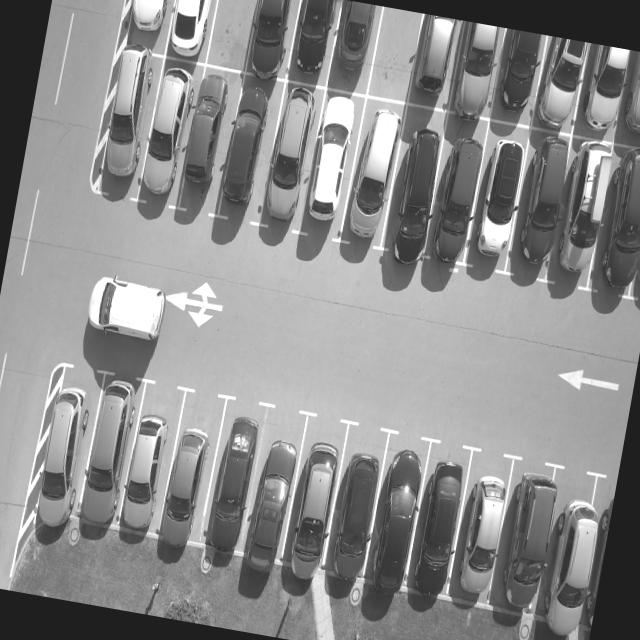car: (530, 466, 617, 640), (23, 360, 103, 540), (484, 458, 566, 632), (196, 392, 274, 564), (150, 385, 228, 554), (278, 412, 354, 584), (70, 370, 146, 542), (316, 418, 390, 590), (360, 429, 434, 601), (334, 92, 410, 258), (237, 403, 310, 574), (113, 378, 187, 546), (442, 446, 516, 614), (210, 69, 286, 232), (254, 77, 329, 241), (84, 43, 162, 198), (404, 438, 476, 604), (292, 88, 366, 248), (380, 104, 454, 262), (174, 61, 246, 221), (134, 54, 204, 211), (504, 128, 578, 276), (545, 142, 618, 290), (422, 114, 490, 268), (466, 131, 534, 279), (586, 152, 640, 301), (444, 22, 506, 122), (573, 44, 635, 144), (528, 34, 591, 132), (489, 28, 552, 124), (402, 12, 462, 108), (322, 0, 382, 94), (284, 0, 345, 86), (241, 0, 303, 79), (162, 0, 222, 64), (115, 0, 179, 54), (611, 49, 640, 149)
free: (364, 5, 427, 101), (205, 0, 265, 71)
